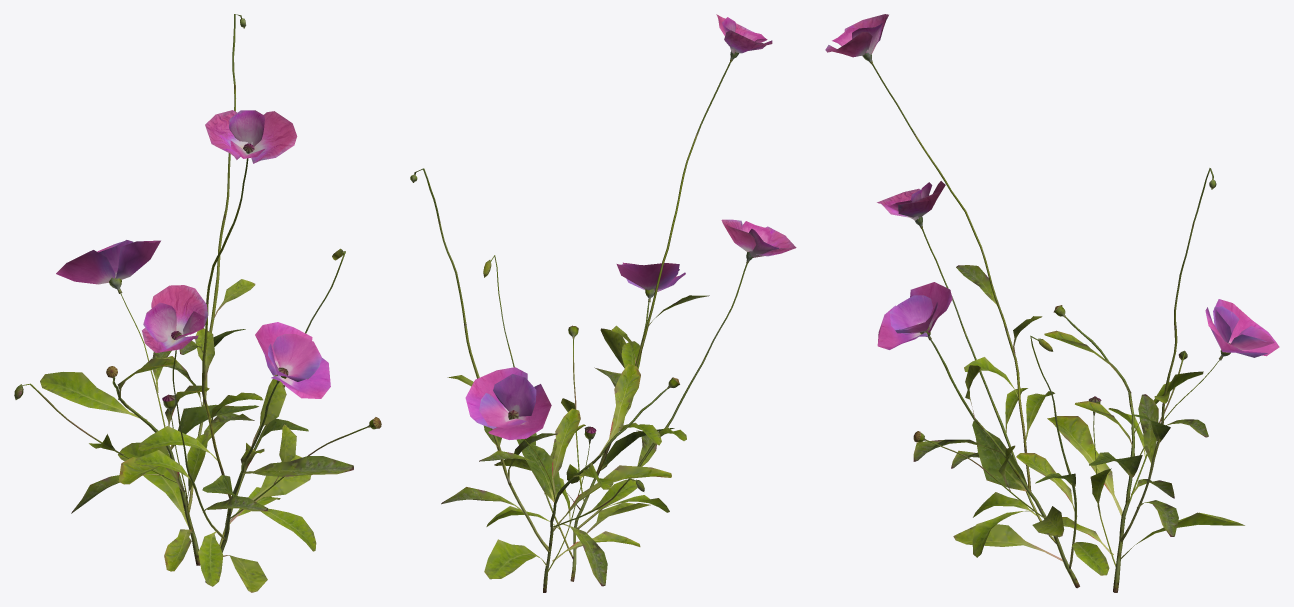
The model's file is Poppy_bush_normal_pink.glb.
The picture shows the model from 3 angles, left to right: view 1: azimuth 30°, elevation 25°; view 2: azimuth 150°, elevation 25°; view 3: azimuth 270°, elevation 25°; orthographic projection. The views are drawn at different scales.
Visible parts, largest first — view 1: bushhhh; view 2: bushhhh; view 3: bushhhh.
Part boxes in pixels (x1=…): bushhhh: x1=14, y1=14, x2=381, y2=592; bushhhh: x1=410, y1=14, x2=796, y2=592; bushhhh: x1=825, y1=14, x2=1279, y2=592.
Bounding box in the file's own units: 2.3 × 4.57 × 3.53.
1 material, 1 textured.
